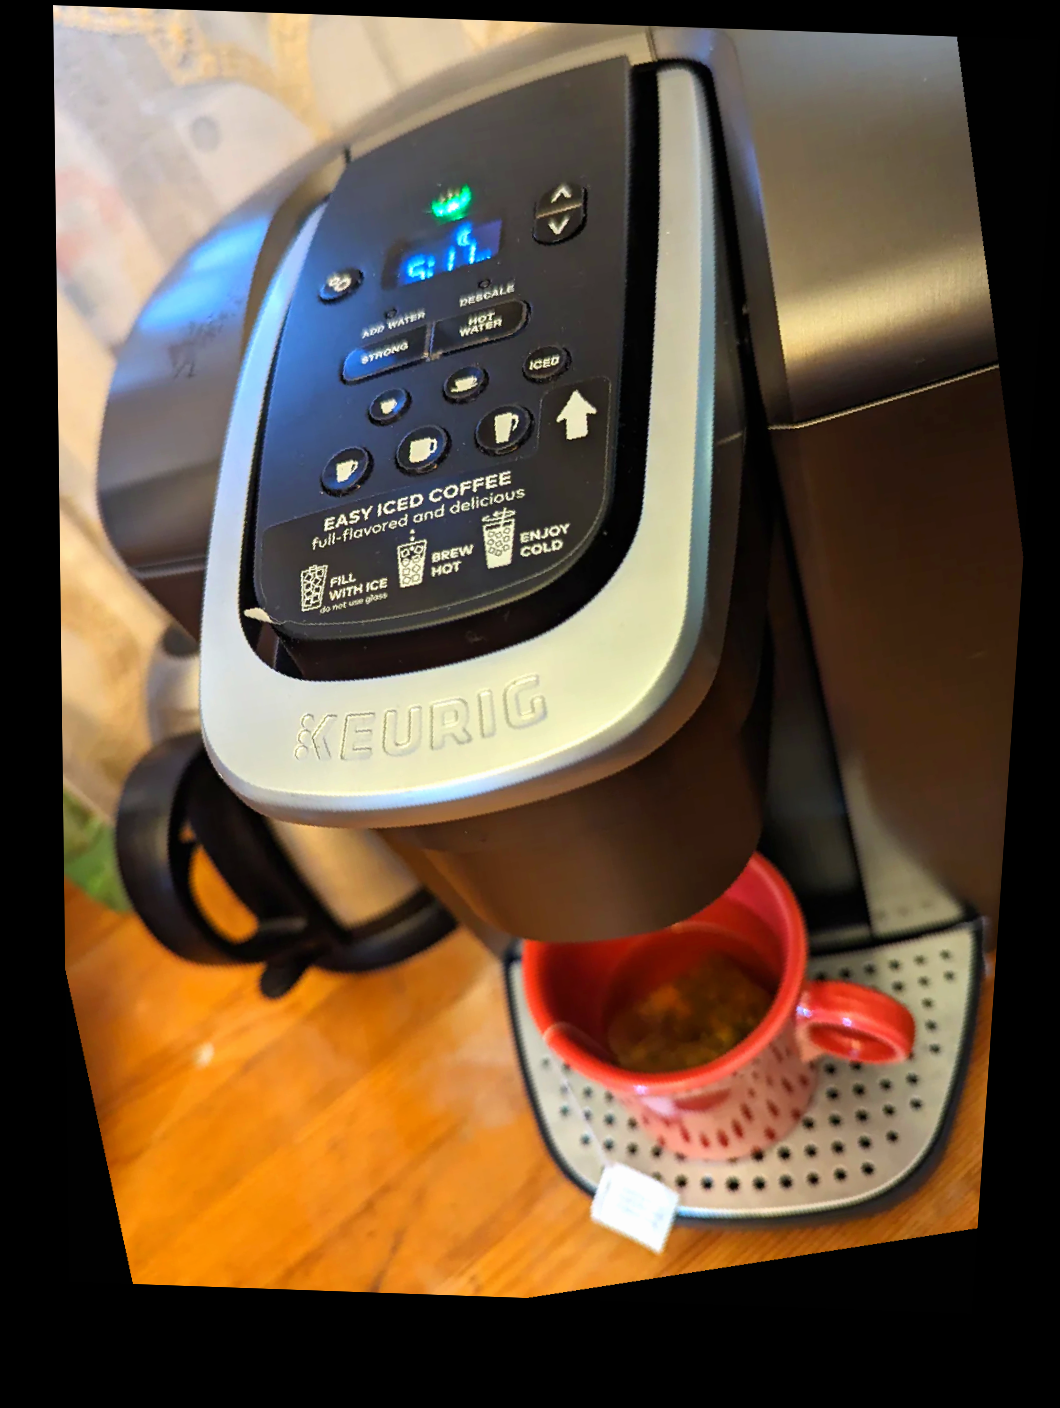10oz: (380, 415, 457, 484)
12oz: (463, 394, 541, 463)
4oz: (359, 377, 421, 432)
6oz: (433, 356, 495, 411)
8oz: (306, 436, 383, 505)
add_water: (347, 289, 433, 346)
descale: (439, 263, 524, 318)
hot: (432, 297, 529, 357)
iced: (512, 334, 578, 390)
power: (420, 177, 485, 225)
strong: (341, 325, 436, 385)
